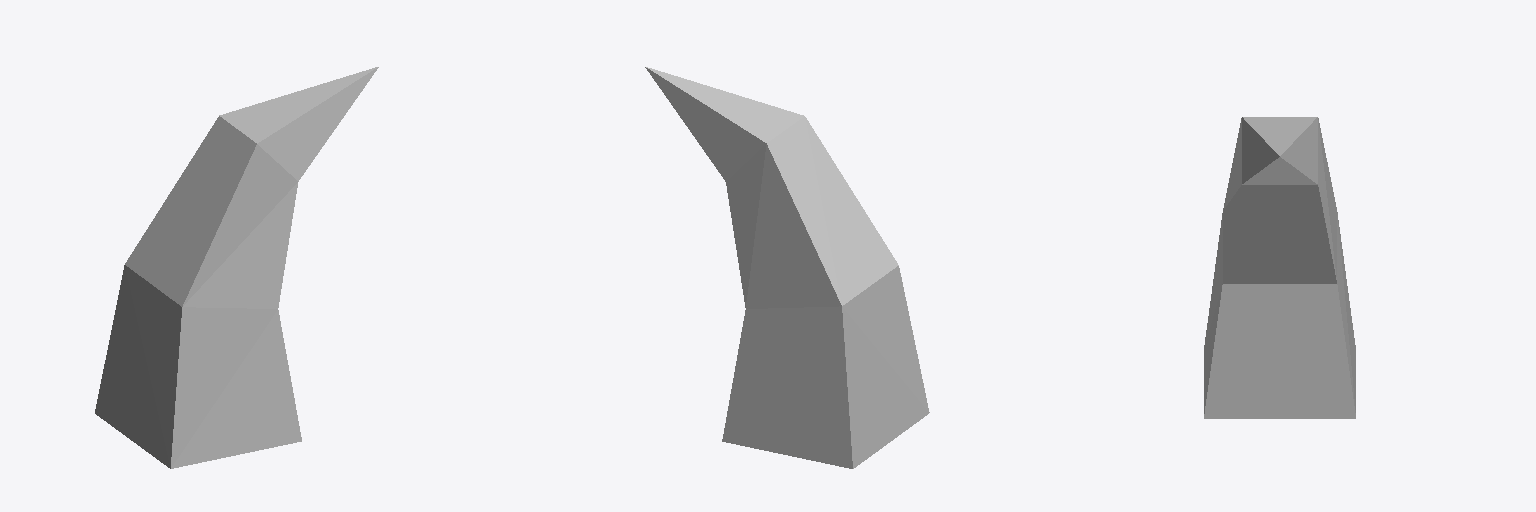
File: skeletal_000006.obj
3 views of the same model, side by side, from view 1: azimuth 30°, elevation 25°; view 2: azimuth 150°, elevation 25°; view 3: azimuth 270°, elevation 25° (orthographic).
Visible parts, largest first — view 1: Cube; view 2: Cube; view 3: Cube.
Part boxes in pixels (x1,y1,x2,y2): Cube: (95, 67, 378, 468); Cube: (645, 67, 929, 468); Cube: (1204, 117, 1355, 418).
Bounding box in the file's own units: 3.74 × 4.61 × 2.